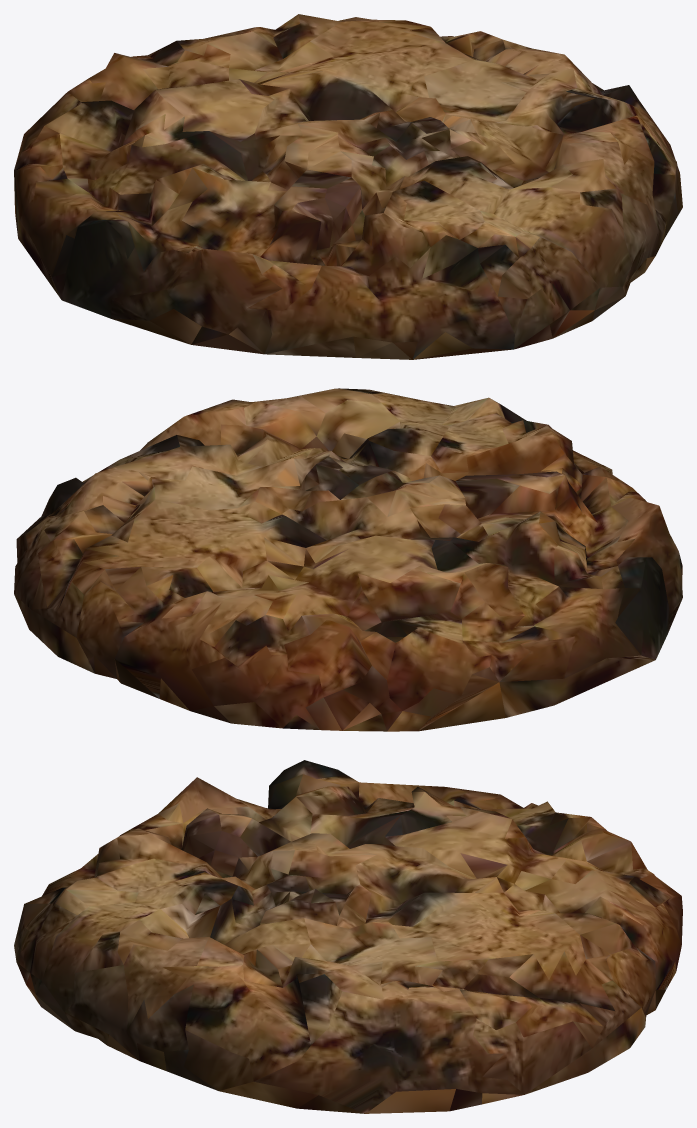
Rendered from cookie.glb.
3 renders of one model, top to bottom at view 1: azimuth 30°, elevation 25°; view 2: azimuth 150°, elevation 25°; view 3: azimuth 270°, elevation 25°, orthographic. The views are drawn at different scales.
Parts seen in each view (by area): view 1: 3DModel_3DModel_0; view 2: 3DModel_3DModel_0; view 3: 3DModel_3DModel_0.
Part boxes in pixels (left/top/right/bottom): 3DModel_3DModel_0: left=14, top=14, right=682, bottom=359; 3DModel_3DModel_0: left=14, top=388, right=682, bottom=731; 3DModel_3DModel_0: left=14, top=760, right=682, bottom=1113.
Size of the model in its own units: 15.79 by 2.65 by 15.63.
Materials: 1 (1 with a texture image).
